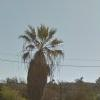Palm tree: (11, 15, 70, 79)
